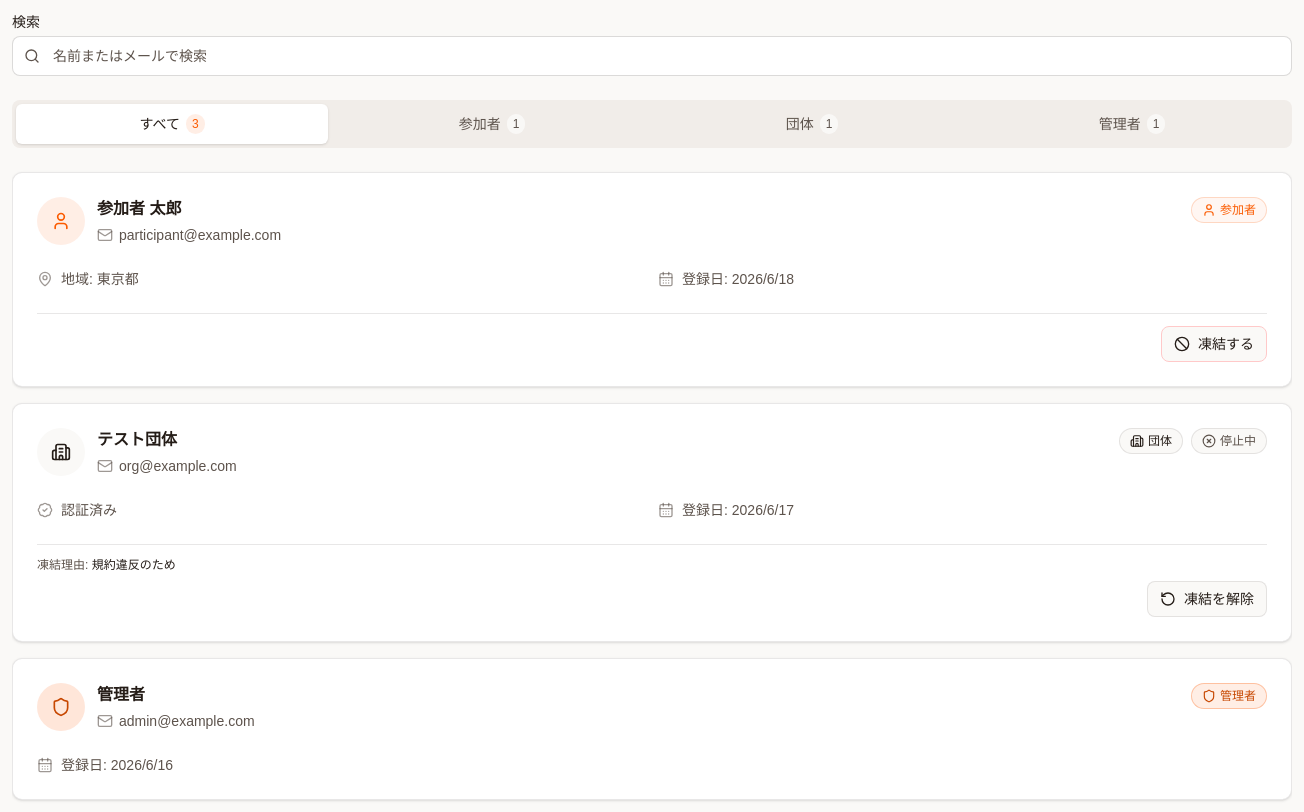
Scenario: AdminUserList › 名前とメールでユーザーを検索できる
Type "ORG@" into the field labelled "検索" at (652, 56), box [12, 36, 1292, 76]
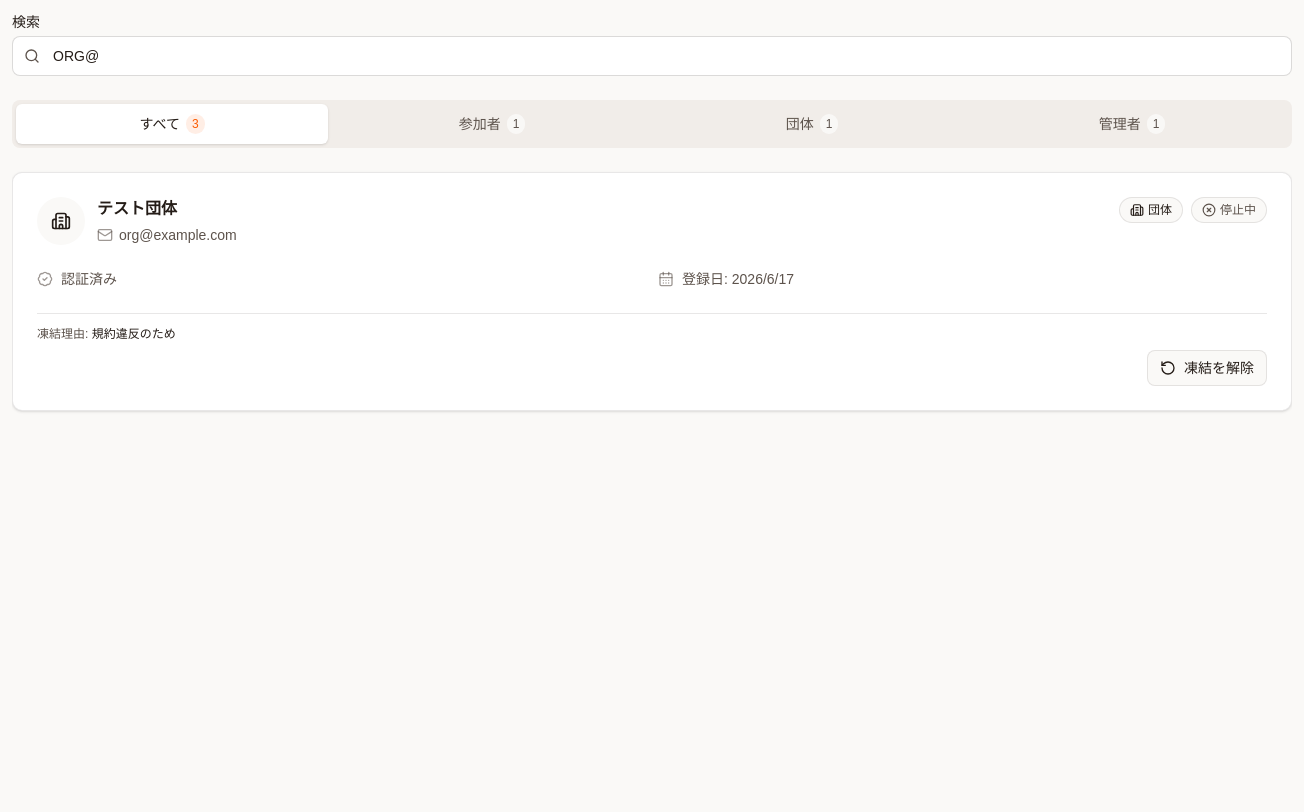
Expected: the heading "テスト団体" is shown, [97, 200, 177, 217]
Expected: the heading "参加者 太郎" is gone
Expected: the text "admin@example.com" is gone
